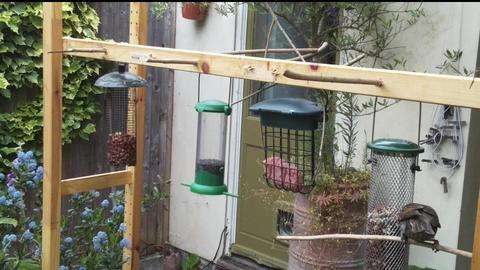starling: (399, 203, 441, 254)
